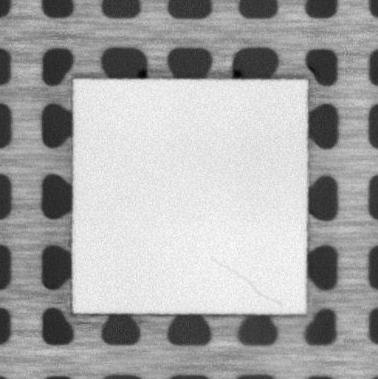DIE_CRACK: (209, 254, 279, 306)
